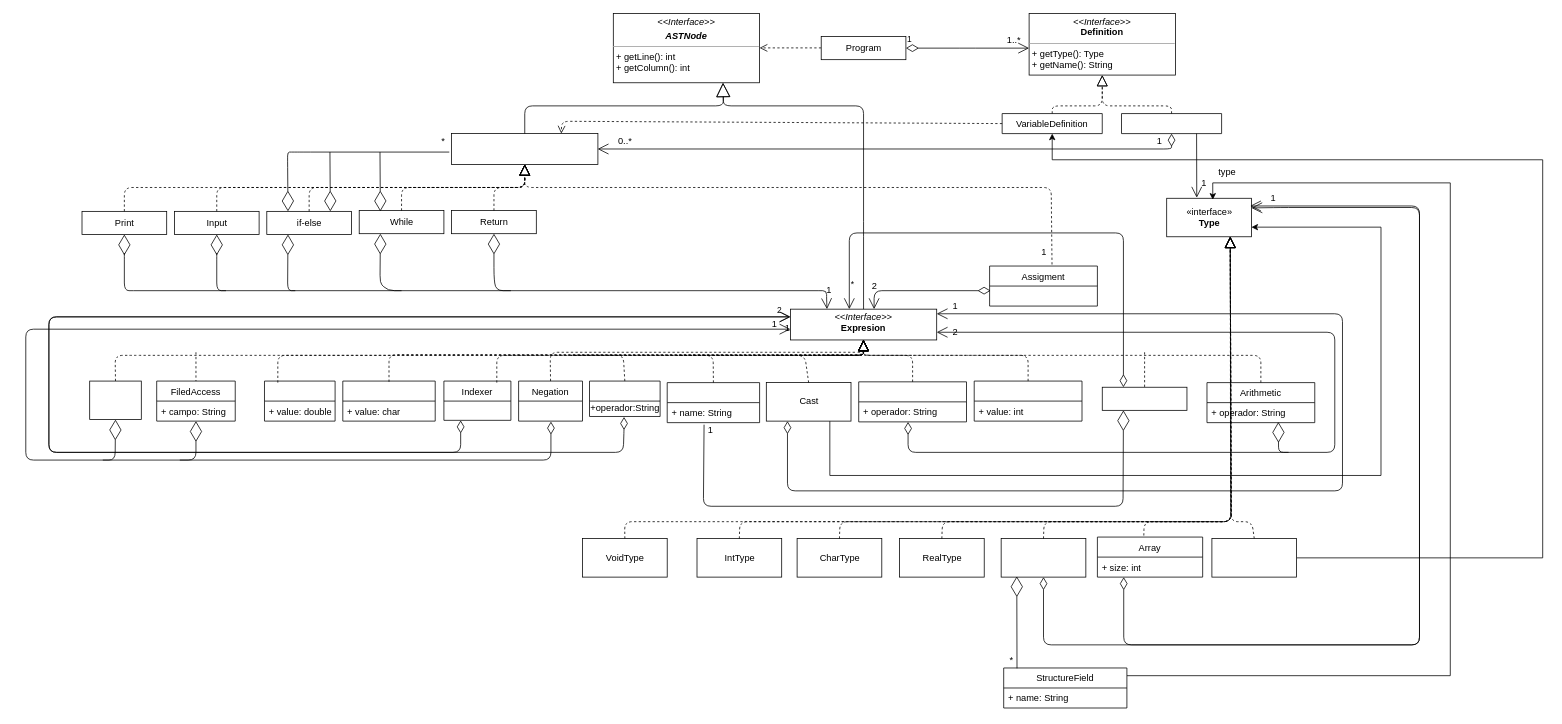
This 1562x724 diagram has some shape labels left out. The shapes that lost their labels are listed below. From the top down, each one's box as (x1, y1, x2, y2) in pixels, then its label:
(1121, 113, 1222, 134): FunctionDefinition
(451, 133, 598, 164): <<Interface>> Statement
(89, 380, 141, 420): UnaryMinus
(264, 380, 335, 421): RealLiteral
(342, 380, 435, 421): CharLiteral
(589, 380, 660, 416): Comparation
(666, 382, 760, 423): Variable
(858, 381, 967, 422): Logic
(973, 380, 1082, 421): IntLiteral
(1101, 386, 1187, 410): invokeFunction
(1000, 538, 1086, 577): StructureType
(1211, 538, 1297, 577): FunctionType
